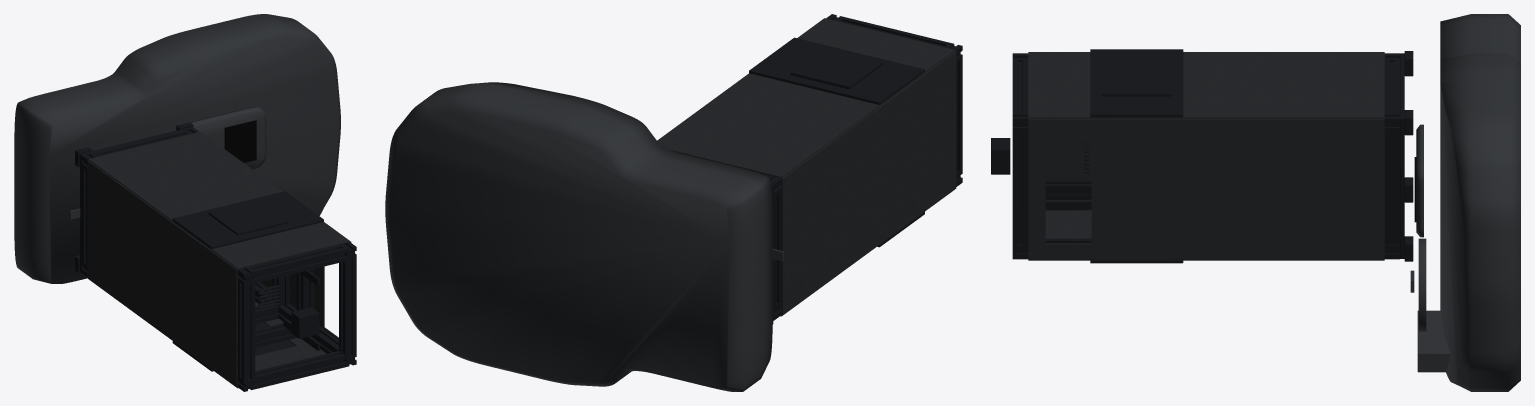
The picture shows the model from 3 angles, left to right: view 1: azimuth 30°, elevation 25°; view 2: azimuth 150°, elevation 25°; view 3: azimuth 270°, elevation 25°; orthographic projection. The views are drawn at different scales.
Parts seen in each view (by area): view 1: base_link__wr141e_lower_chassis, base_link__rear_door_closed, base_link__side_1_lower, base_link__arm_bridge_1, base_link__side_1_upper, base_link__control_pod, base_link__rail_y_3_-1, base_link__rail_x_3_1, base_link__rail_y_3_1, base_link__rail_x_3_-1, base_link__arm_flange_1, base_link__display (+14 smaller); view 2: base_link__wr141e_lower_chassis, base_link__rear_door_closed, base_link__side_1_lower, base_link__arm_bridge_1, base_link__side_1_upper, base_link__arm_flange_1, base_link__rail_y_0_-1, base_link__rail_y_3_-1, base_link__rail_x_3_1; view 3: base_link__front_door_lower, base_link__wr141e_lower_chassis, base_link__side_1_lower, base_link__arm_bridge_1, base_link__side_1_upper, base_link__front_door_upper, base_link__arm_flange_1, base_link__rear_door_closed, base_link__rail_y_3_1, base_link__rail_y_0_1, base_link__charge_mount, base_link__side_-1_upper (+12 smaller).
Boxes of the visible parts, x1,y1,x2,y2 form: base_link__wr141e_lower_chassis: [14, 14, 340, 283]; base_link__rear_door_closed: [87, 160, 237, 387]; base_link__side_1_lower: [88, 131, 282, 222]; base_link__arm_bridge_1: [172, 191, 323, 248]; base_link__side_1_upper: [210, 222, 349, 269]; base_link__control_pod: [190, 107, 266, 169]; base_link__rail_y_3_-1: [237, 281, 255, 379]; base_link__rail_x_3_1: [249, 245, 345, 283]; base_link__rail_y_3_1: [339, 258, 356, 355]; base_link__rail_x_3_-1: [253, 351, 345, 388]; base_link__arm_flange_1: [208, 200, 288, 235]; base_link__display: [224, 120, 256, 162]; base_link__wr141e_lower_chassis: [385, 82, 772, 391]; base_link__rear_door_closed: [781, 51, 956, 315]; base_link__side_1_lower: [657, 73, 881, 178]; base_link__arm_bridge_1: [749, 37, 924, 104]; base_link__side_1_upper: [797, 18, 954, 74]; base_link__arm_flange_1: [790, 47, 883, 89]; base_link__rail_y_0_-1: [774, 192, 781, 306]; base_link__rail_y_3_-1: [956, 60, 962, 173]; base_link__rail_x_3_1: [839, 17, 948, 46]; base_link__front_door_lower: [1091, 118, 1384, 259]; base_link__wr141e_lower_chassis: [1440, 14, 1520, 391]; base_link__side_1_lower: [1179, 52, 1384, 118]; base_link__arm_bridge_1: [1090, 49, 1183, 117]; base_link__side_1_upper: [1028, 52, 1093, 118]; base_link__front_door_upper: [1028, 118, 1045, 259]; base_link__arm_flange_1: [1102, 64, 1171, 96]; base_link__rear_door_closed: [1045, 135, 1091, 179]; base_link__rail_y_3_1: [1012, 132, 1028, 244]; base_link__rail_y_0_1: [1384, 132, 1399, 244]; base_link__charge_mount: [1417, 310, 1450, 372]; base_link__side_-1_upper: [1028, 200, 1093, 260].
Bounding box in the file's own units: 0.553 × 0.386 × 0.684.
4 materials, 3 textured.
